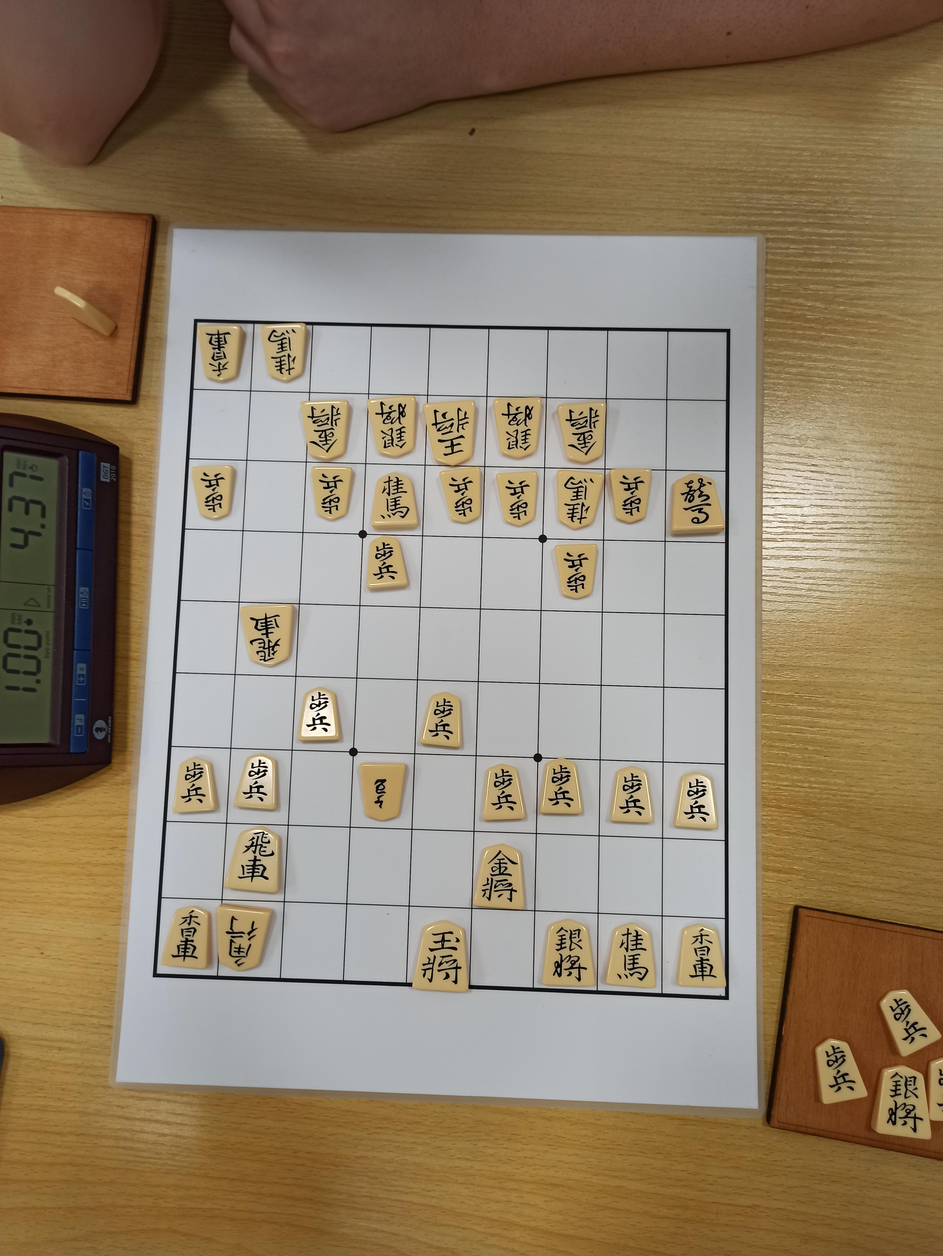board: (155, 319, 728, 997)
